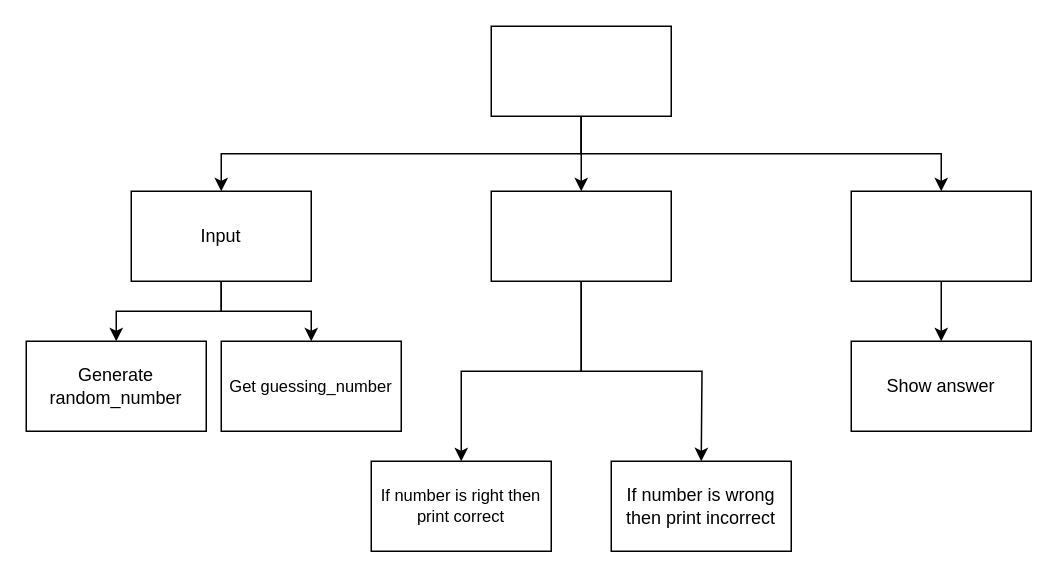
The diagram is 1058 pixels wide and 578 high, and some of its shapes have lost their labels. Each missing label, with the box of its shape:
Guessing number: (490, 25, 671, 116)
Output: (850, 190, 1031, 281)
Process: (490, 190, 671, 281)
